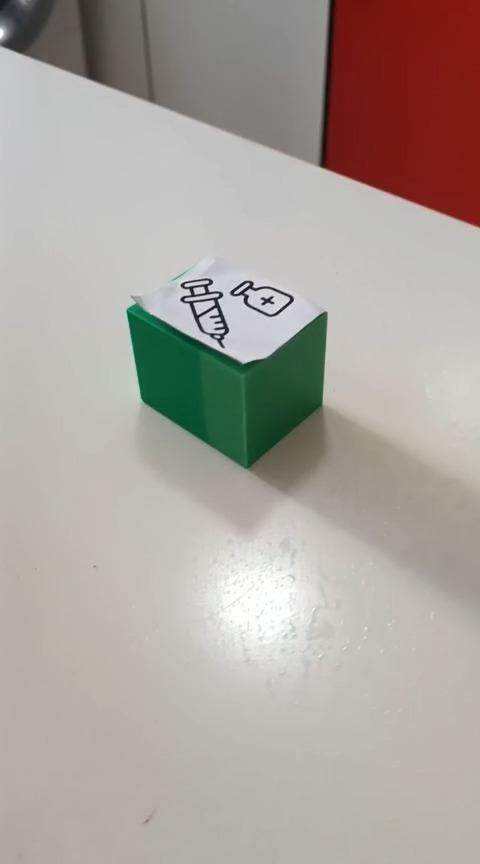antiseptic cream: (125, 252, 329, 469)
